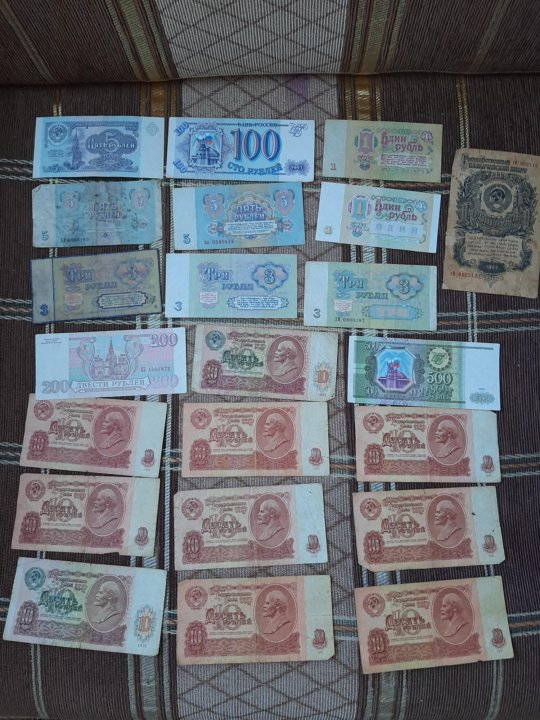cash: (4, 557, 167, 655), (354, 576, 515, 675), (441, 146, 540, 299), (176, 573, 335, 665), (173, 484, 328, 570), (18, 394, 174, 477), (352, 486, 505, 570), (12, 473, 160, 558), (346, 335, 501, 411), (190, 323, 338, 401), (181, 401, 330, 478), (354, 406, 499, 484), (35, 326, 186, 400), (165, 116, 315, 182), (30, 247, 160, 323), (315, 181, 441, 255), (303, 260, 436, 330), (173, 181, 307, 250), (32, 179, 163, 247), (165, 252, 296, 317), (32, 115, 164, 178), (322, 118, 441, 182)
